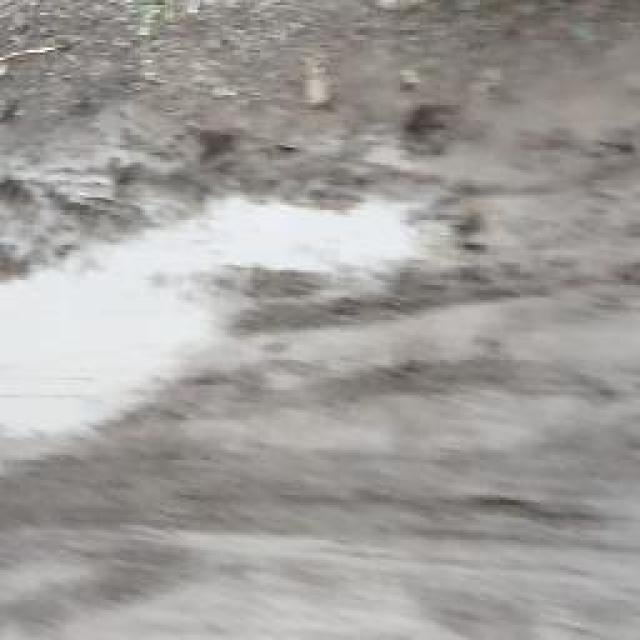waterlogging: (3, 180, 459, 408)
